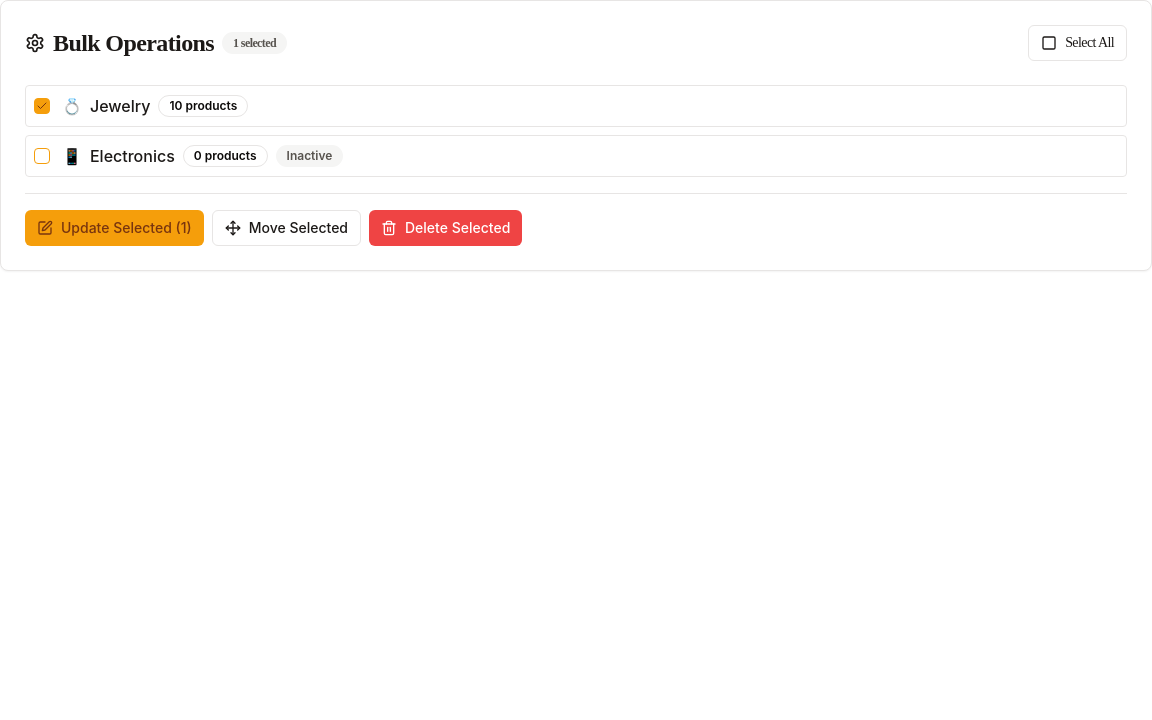
Test case: CategoryBulkOperations › opens bulk move dialog
Click the button "Move Selected" at (286, 228), box [212,210,361,246]
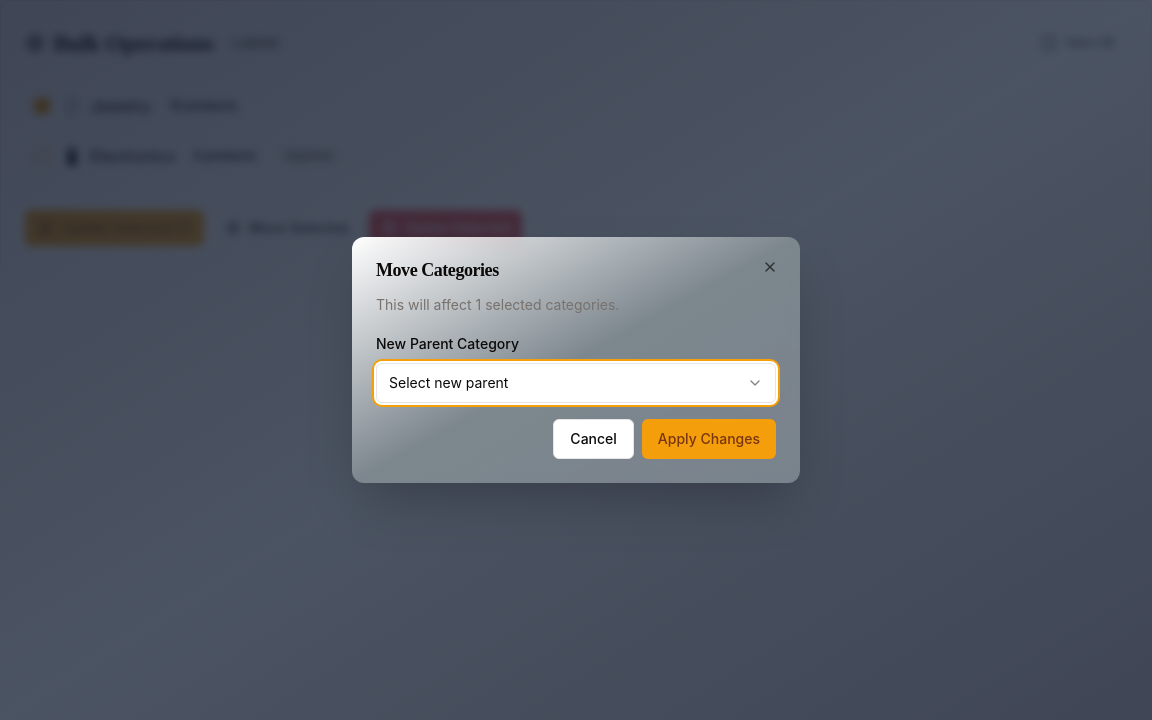
Now the heading "Move Categories" is shown, box [376,260,499,280]
